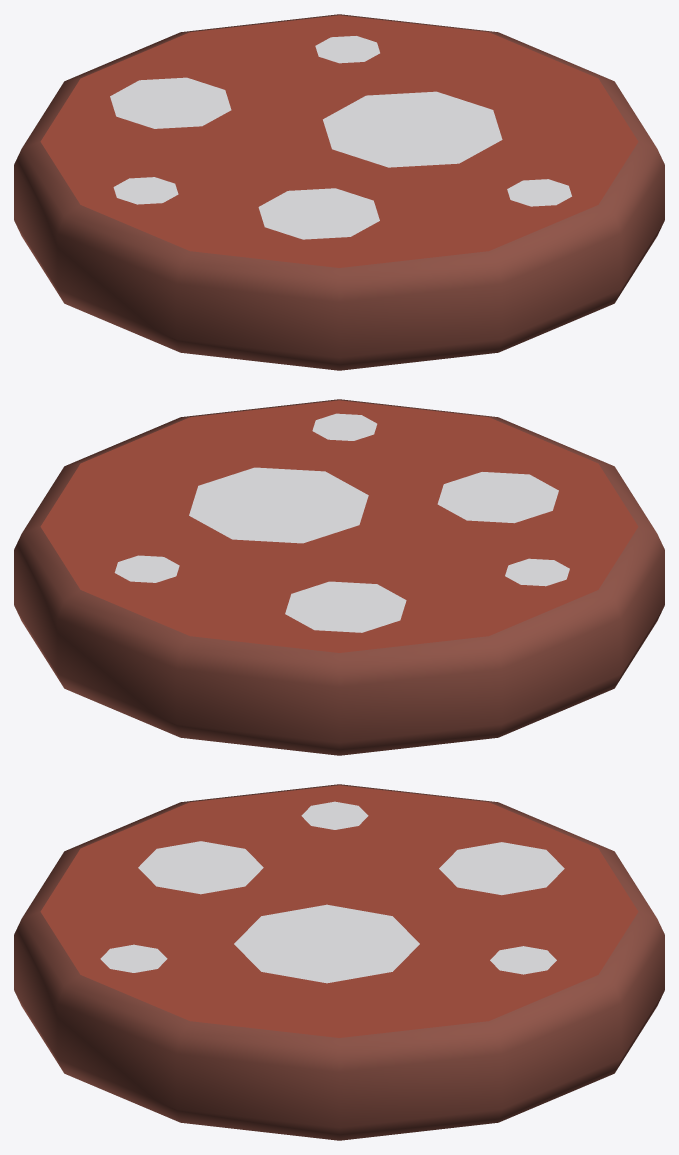
File: Sausage_slise.002.fbx
3 views of the same model, one above another, from view 1: azimuth 30°, elevation 25°; view 2: azimuth 150°, elevation 25°; view 3: azimuth 270°, elevation 25° (orthographic).
Parts seen in each view (by area): view 1: Sausage_slise.002; view 2: Sausage_slise.002; view 3: Sausage_slise.002.
Boxes of the visible parts, x1,y1,x2,y2 form: Sausage_slise.002: (14, 14, 664, 370); Sausage_slise.002: (14, 399, 664, 755); Sausage_slise.002: (14, 784, 664, 1140).
Bounding box in the file's own units: 66.66 × 66.66 × 11.55.
